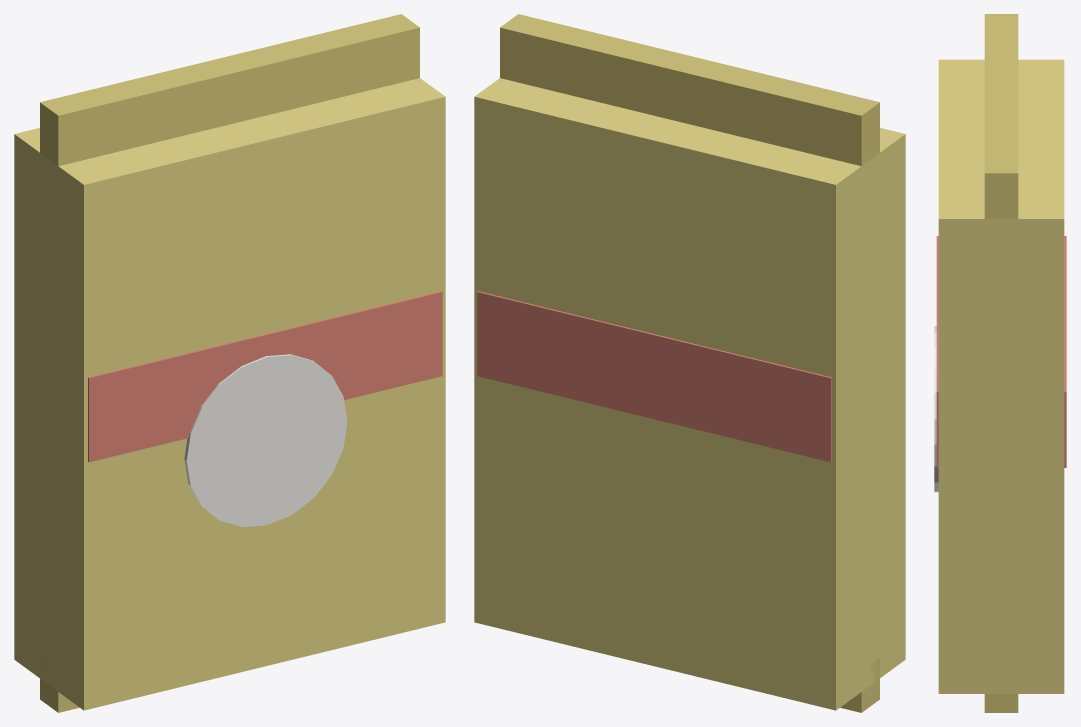
The model's file is item_40_melon_seeds.glb.
3 views of the same model, side by side, from view 1: azimuth 30°, elevation 25°; view 2: azimuth 150°, elevation 25°; view 3: azimuth 270°, elevation 25° (orthographic). The views are drawn at different scales.
Parts seen in each view (by area): view 1: I40_Bag, I40_Crimp, I40_Stripe, I40_Brand, I40_CrimpB; view 2: I40_Bag, I40_Stripe, I40_Crimp, I40_CrimpB; view 3: I40_Bag, I40_Crimp, I40_Stripe, I40_CrimpB, I40_Brand.
Boxes of the visible parts, x1,y1,x2,y2 form: I40_Bag: (14, 78, 445, 710); I40_Crimp: (40, 14, 419, 166); I40_Stripe: (88, 291, 442, 462); I40_Brand: (184, 354, 347, 526); I40_CrimpB: (40, 657, 79, 712); I40_Bag: (474, 78, 905, 710); I40_Stripe: (477, 291, 831, 462); I40_Crimp: (500, 14, 879, 166); I40_CrimpB: (840, 657, 879, 712); I40_Bag: (938, 59, 1064, 693); I40_Crimp: (984, 14, 1018, 218); I40_Stripe: (936, 236, 1066, 467); I40_CrimpB: (984, 675, 1018, 712); I40_Brand: (934, 326, 938, 492).
Size of the model in its own units: 0.09 by 0.142 by 0.0315.
